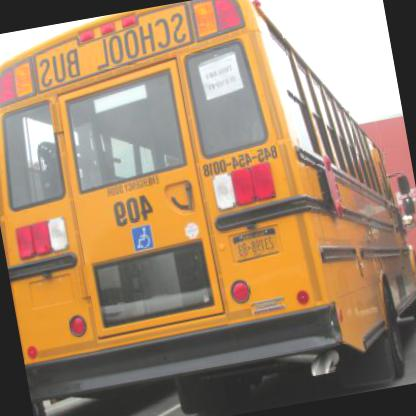bus: (0, 0, 415, 415), (0, 136, 129, 415)
